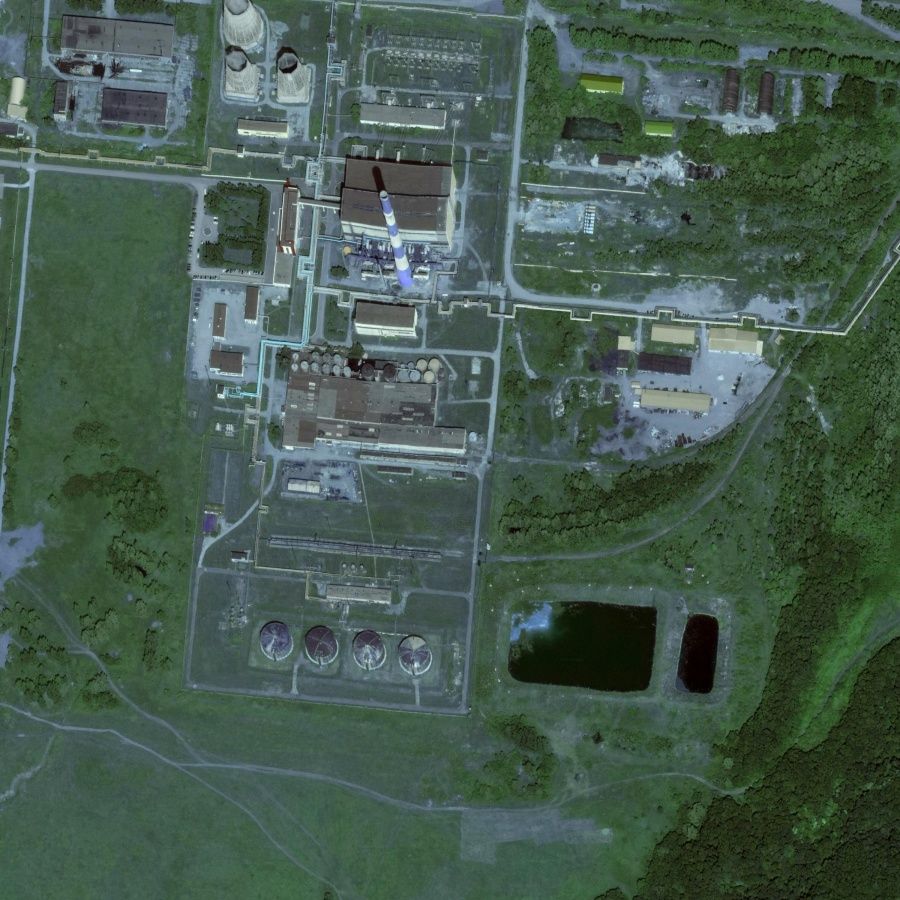PowerPlant: (253, 570, 464, 736), (498, 587, 732, 714)
